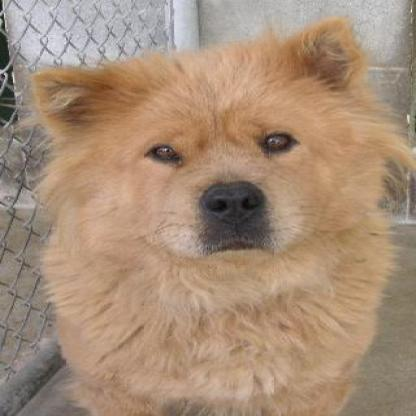chow: (29, 15, 410, 413)
